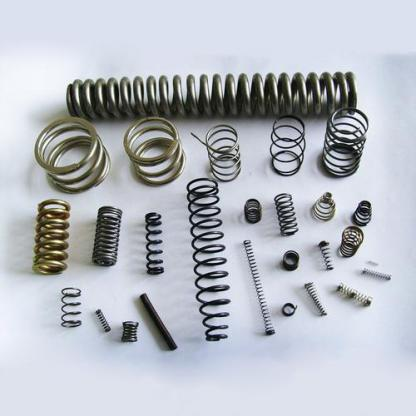FOD: (185, 175, 232, 347), (32, 116, 114, 198), (120, 114, 190, 189), (240, 236, 279, 340), (320, 106, 371, 180), (30, 196, 74, 281), (191, 121, 244, 184), (139, 289, 180, 354), (268, 114, 308, 178), (88, 204, 126, 270), (142, 210, 168, 278), (274, 190, 302, 238), (58, 284, 84, 332), (302, 278, 328, 320), (335, 281, 375, 308), (336, 224, 367, 258), (311, 190, 337, 224), (241, 192, 264, 227), (350, 198, 378, 226), (317, 236, 336, 272), (360, 264, 393, 284), (93, 305, 113, 334), (120, 317, 140, 345), (279, 249, 302, 271), (280, 298, 301, 319)
